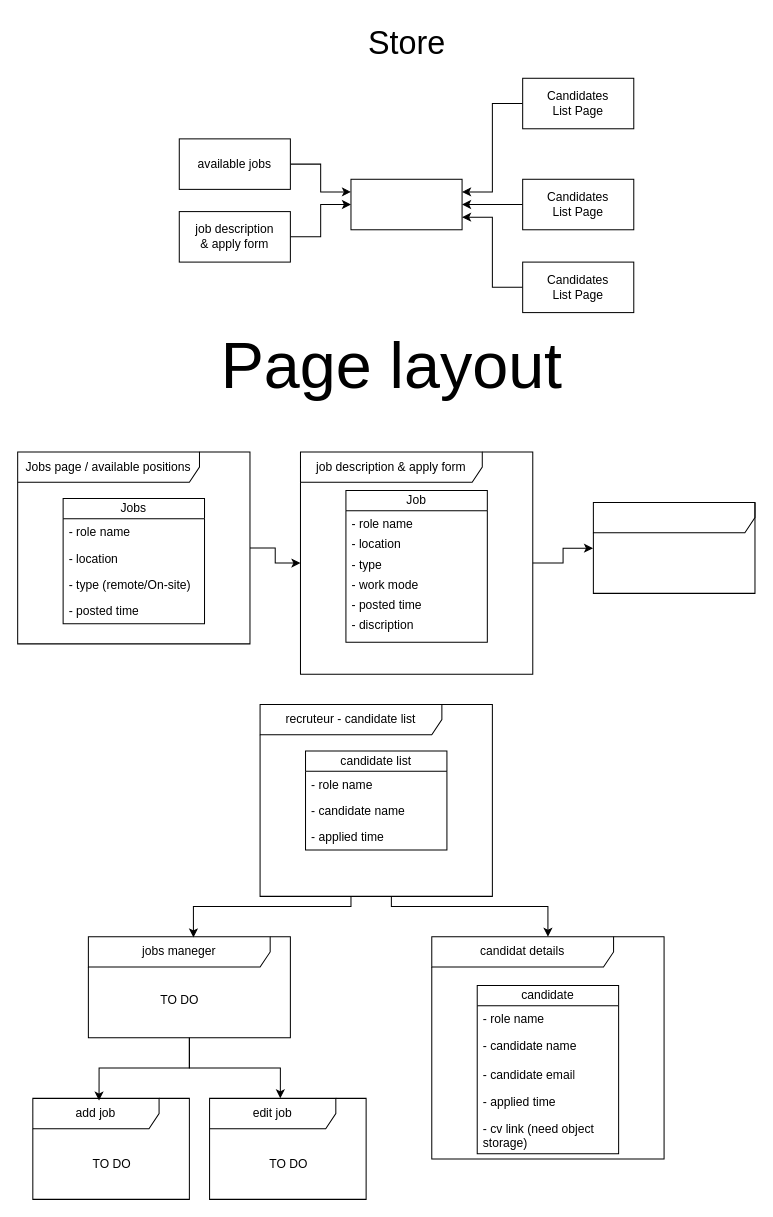
This 773x1217 diagram has some shape labels left out. The shapes that lost their labels are listed below. From the top down, each one's centre as x and y in pixels, then its label:
pixel 406 204: Redux Store
pixel 673 547: thankyou page
